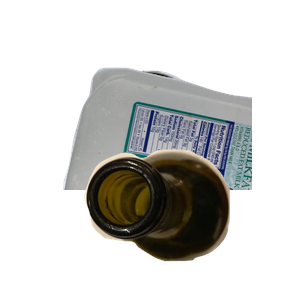glass: (82, 147, 300, 300)
metal: (80, 68, 284, 248)
plastic: (60, 65, 300, 245)
trash: (109, 175, 279, 300)
